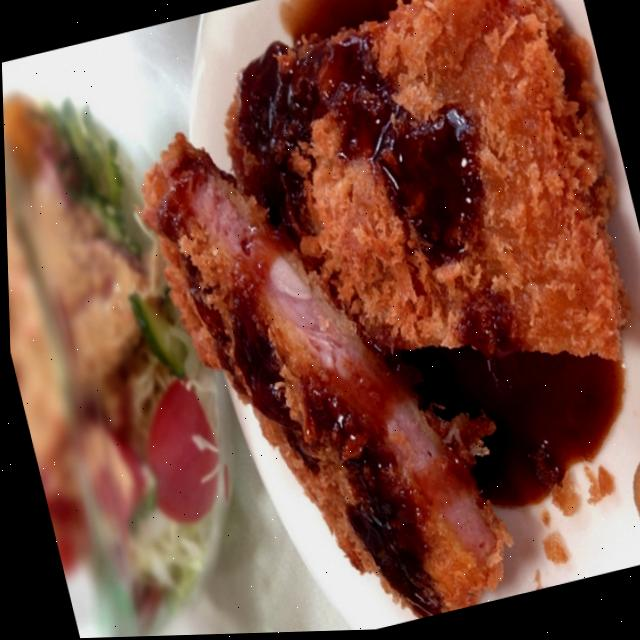炸货点心: (81, 0, 640, 638)
